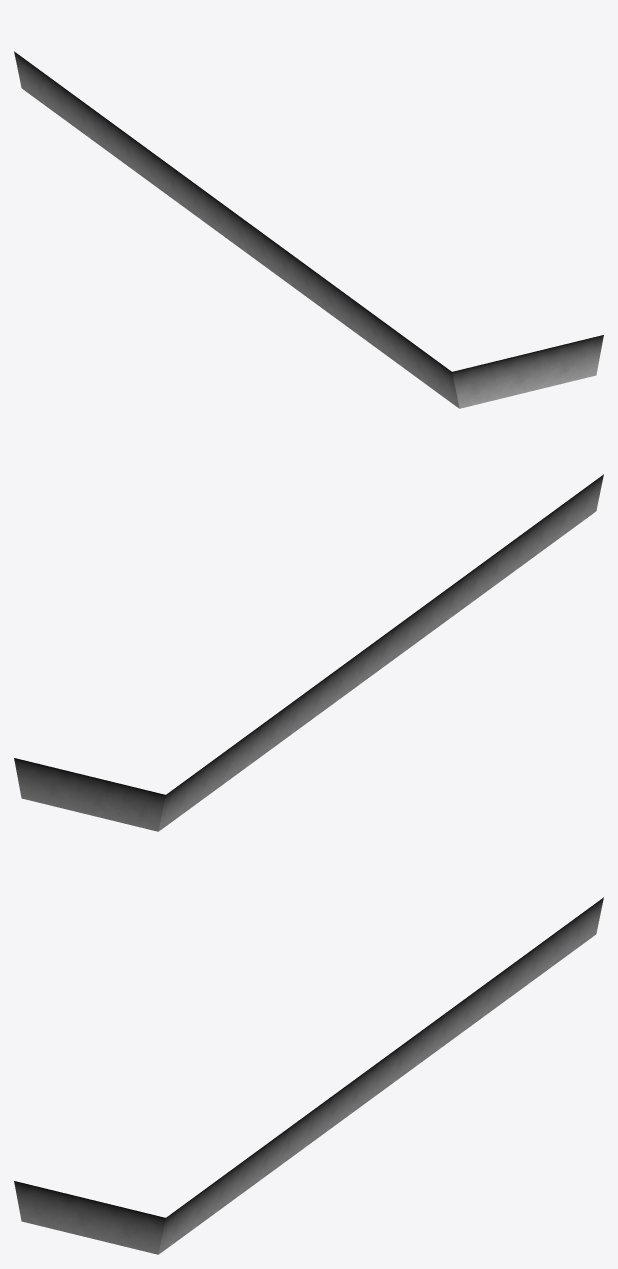
Rendered from AMB_MEI_TENJO.glb.
3 views of the same model, one above another, from view 1: azimuth 30°, elevation 25°; view 2: azimuth 150°, elevation 25°; view 3: azimuth 330°, elevation 25° (orthographic).
Visible parts, largest first — view 1: Mesh2; view 2: Mesh2; view 3: Mesh2.
Part boxes in pixels (left/top/right/bottom): Mesh2: left=14, top=51, right=603, bottom=408; Mesh2: left=14, top=474, right=603, bottom=831; Mesh2: left=14, top=897, right=603, bottom=1254.
Size of the model in its own units: 20.41 by 5 by 102.
Materials: 2 (1 with a texture image).
